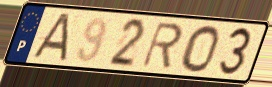2: (106, 17, 147, 70)
3: (215, 25, 254, 78)
9: (76, 15, 111, 64)
A: (28, 12, 73, 63)
O: (179, 24, 221, 74)
R: (139, 21, 185, 70)
